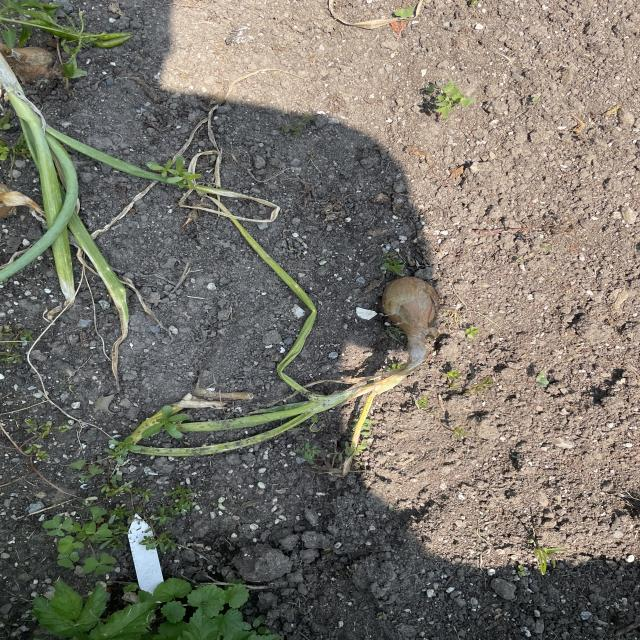Onion: (145, 272, 456, 480), (0, 27, 175, 279)
weed: (44, 579, 264, 640), (24, 503, 142, 581), (420, 80, 476, 118), (150, 153, 207, 187)
